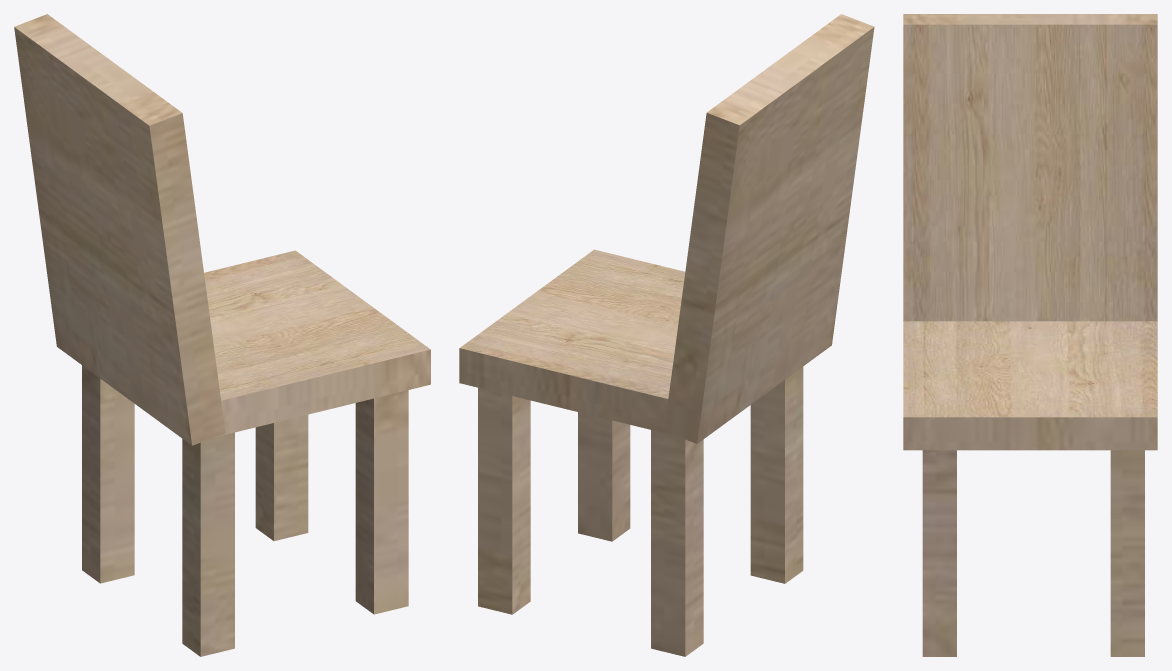
The model's file is cadeira.gltf.
3 views of the same model, side by side, from view 1: azimuth 30°, elevation 25°; view 2: azimuth 150°, elevation 25°; view 3: azimuth 270°, elevation 25° (orthographic). The views are drawn at different scales.
Parts seen in each view (by area): view 1: Cube.005; view 2: Cube.005; view 3: Cube.005.
Part boxes in pixels (x1,y1,x2,y2): Cube.005: (14,14,430,656); Cube.005: (459,14,874,656); Cube.005: (903,14,1157,656).
Bounding box in the file's own units: 0.4865 × 0.9221 × 0.4051.
1 material, 1 textured.
